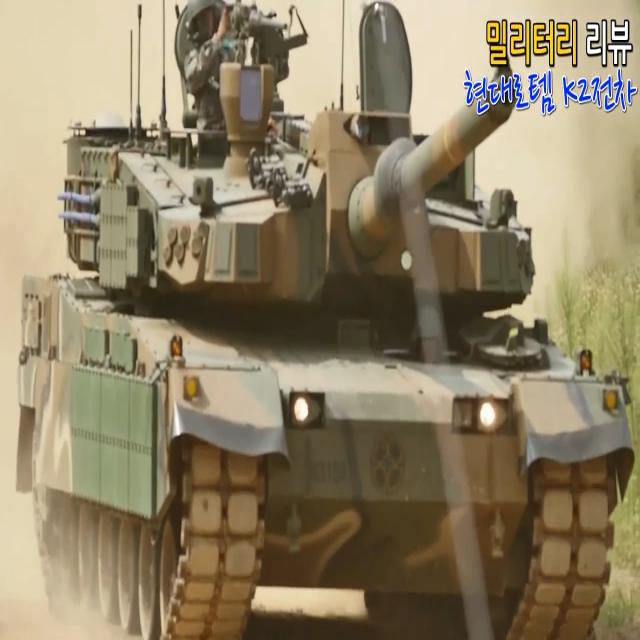korea tank: (15, 1, 633, 638)
